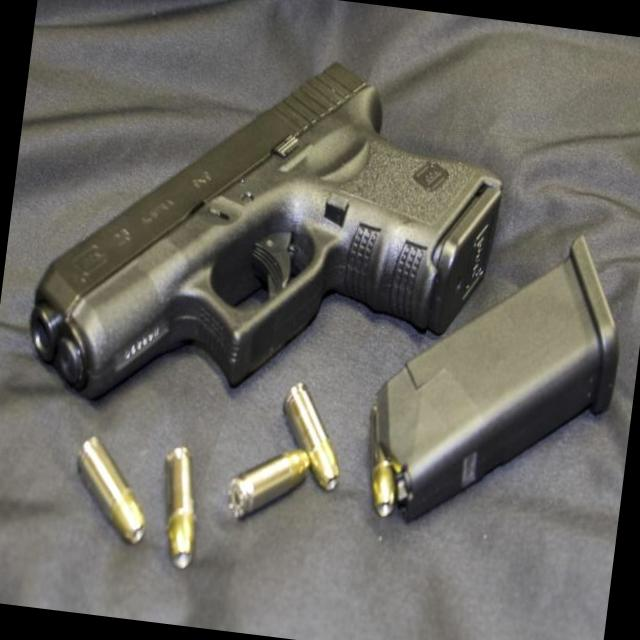Gun: (29, 64, 501, 397)
